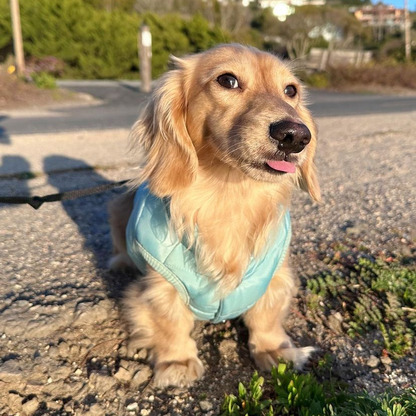dachshund: (84, 43, 353, 391)
